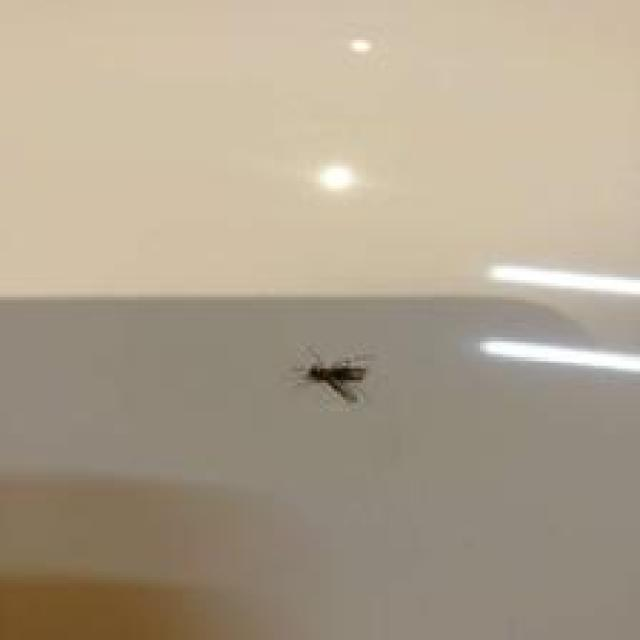Culex: (292, 346, 372, 406)
